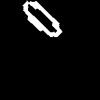chain: (23, 1, 61, 36)
